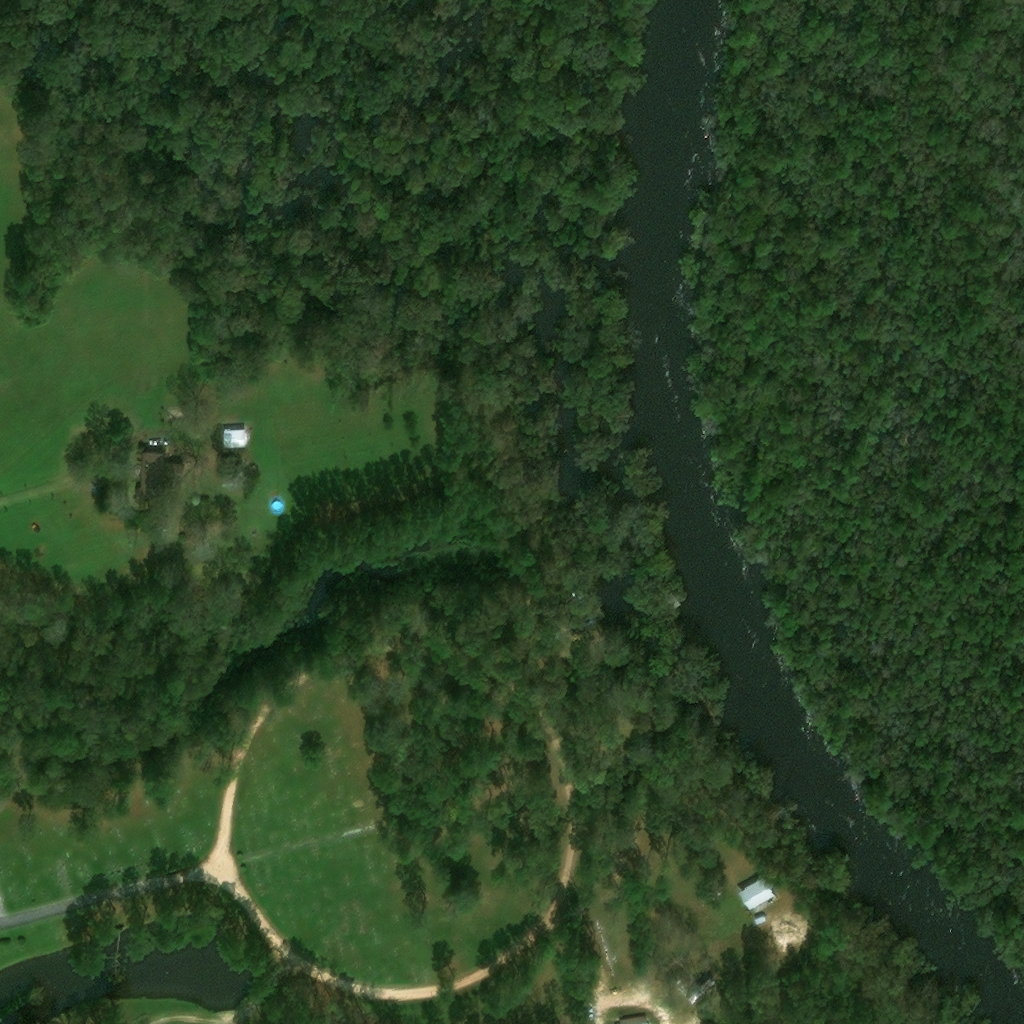no_damage: (732, 875, 768, 909), (140, 452, 166, 476), (222, 430, 245, 448), (621, 1017, 647, 1023), (703, 1005, 715, 1017)
unclassified: (565, 603, 592, 630)
